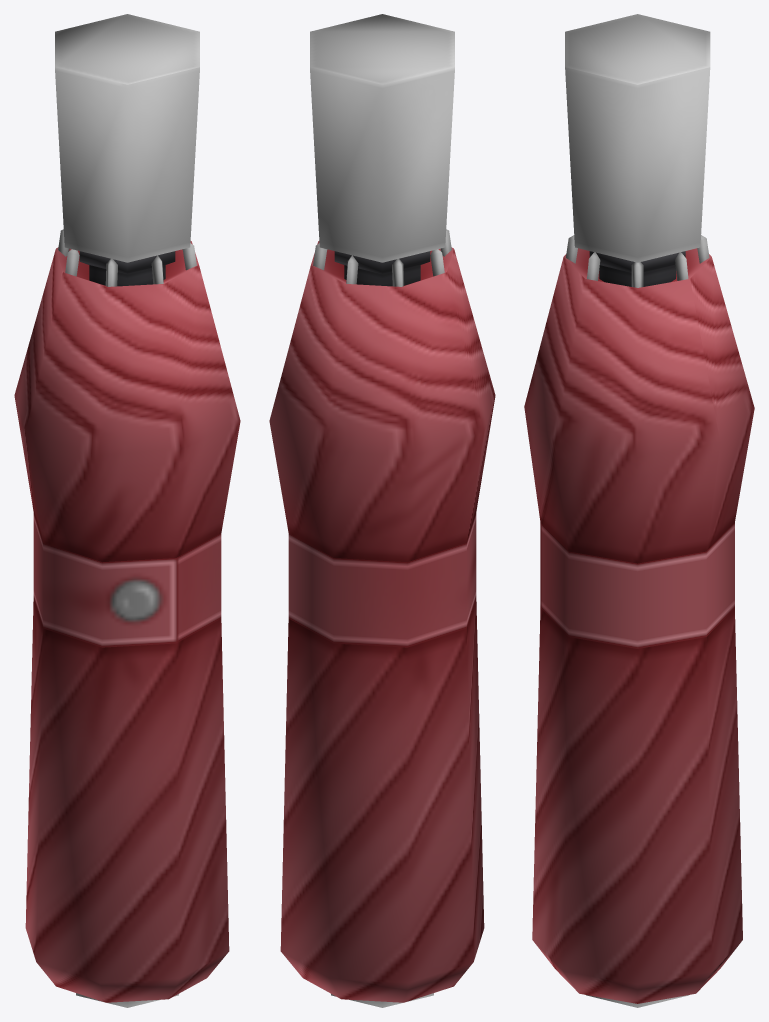
File: set_foldingumbrella_05.fbx
The picture shows the model from 3 angles, left to right: view 1: azimuth 30°, elevation 25°; view 2: azimuth 150°, elevation 25°; view 3: azimuth 270°, elevation 25°; orthographic projection.
Visible parts, largest first — view 1: foldingumbrella_05, handle_05; view 2: foldingumbrella_05, handle_05; view 3: foldingumbrella_05, handle_05.
Boxes of the visible parts, bbox=[...] form: foldingumbrella_05: bbox=[14, 229, 240, 1007]; handle_05: bbox=[55, 14, 199, 262]; foldingumbrella_05: bbox=[269, 229, 495, 1007]; handle_05: bbox=[310, 14, 454, 262]; foldingumbrella_05: bbox=[524, 235, 754, 1007]; handle_05: bbox=[565, 14, 710, 262].
Size of the model in its own units: 5.4 by 23.75 by 5.31.
